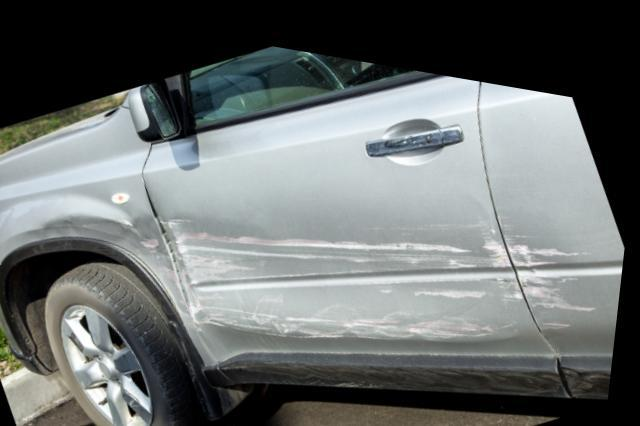dent: (51, 208, 192, 306), (171, 211, 272, 265)
scratch: (195, 203, 533, 329), (501, 199, 598, 317)
